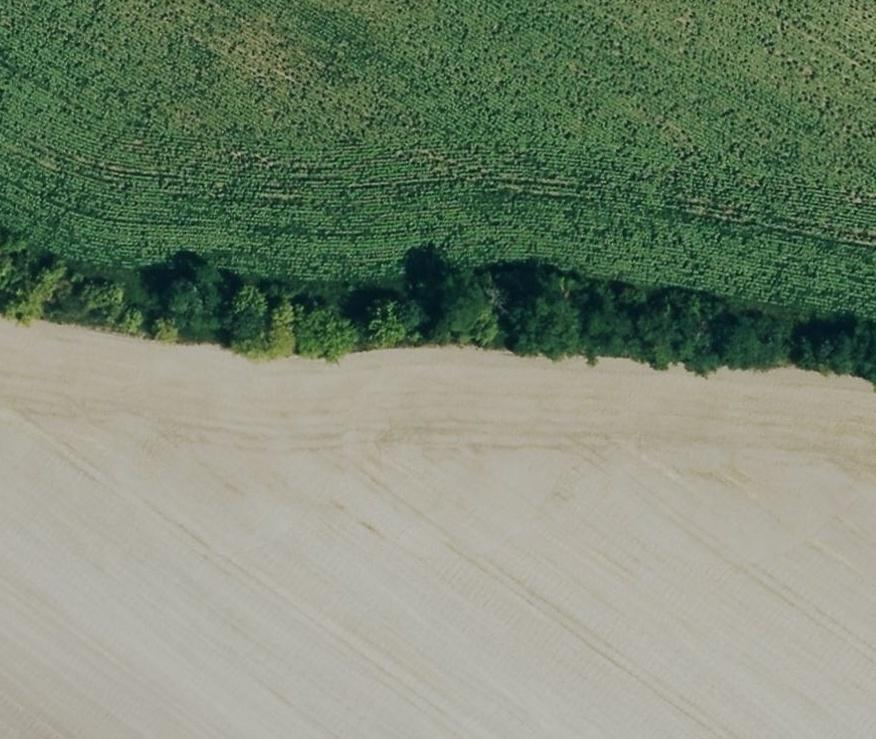field: (0, 321, 876, 736), (0, 2, 876, 317)
forest: (0, 228, 876, 382)
